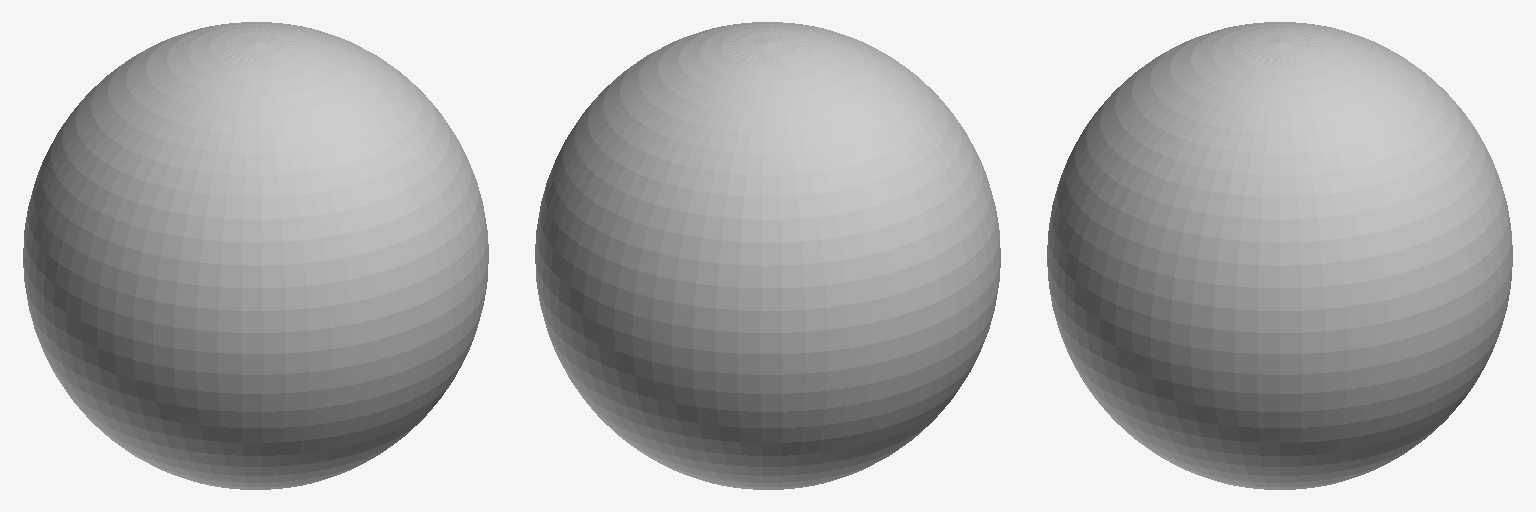
File: earth.obj
The picture shows the model from 3 angles: view 1: azimuth 30°, elevation 25°; view 2: azimuth 150°, elevation 25°; view 3: azimuth 270°, elevation 25°; orthographic projection.
Parts seen in each view (by area): view 1: Sphere; view 2: Sphere; view 3: Sphere.
Part boxes in pixels (x1,y1,x2,y2): Sphere: (23,22,488,489); Sphere: (535,22,1000,489); Sphere: (1047,22,1512,489).
Bounding box in the file's own units: 4.82 × 4.87 × 4.82.